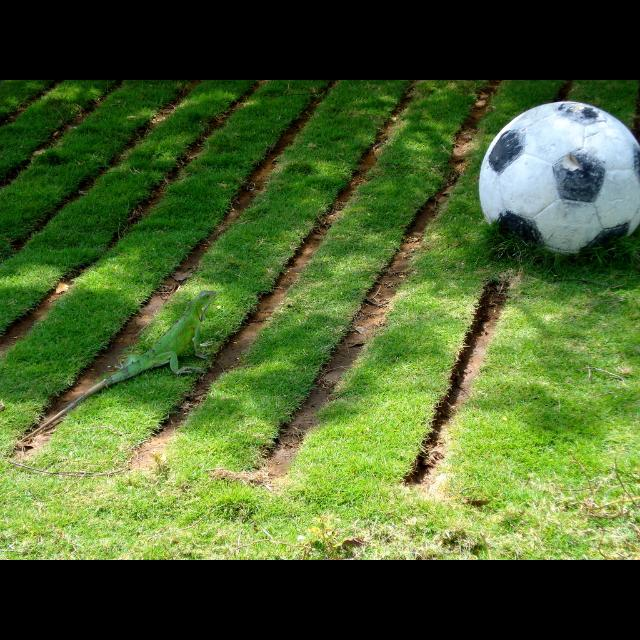Football: (478, 100, 638, 254)
